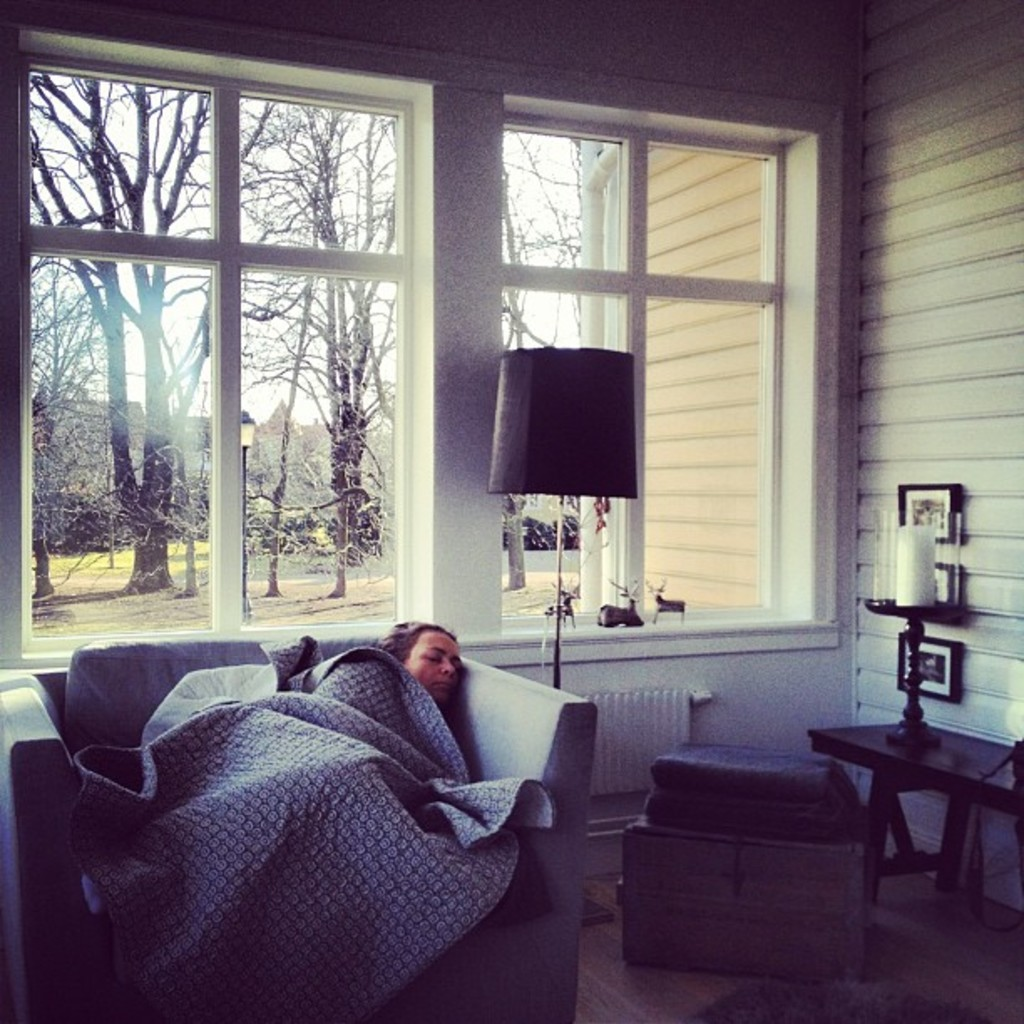Couch: (0, 627, 666, 1024)
